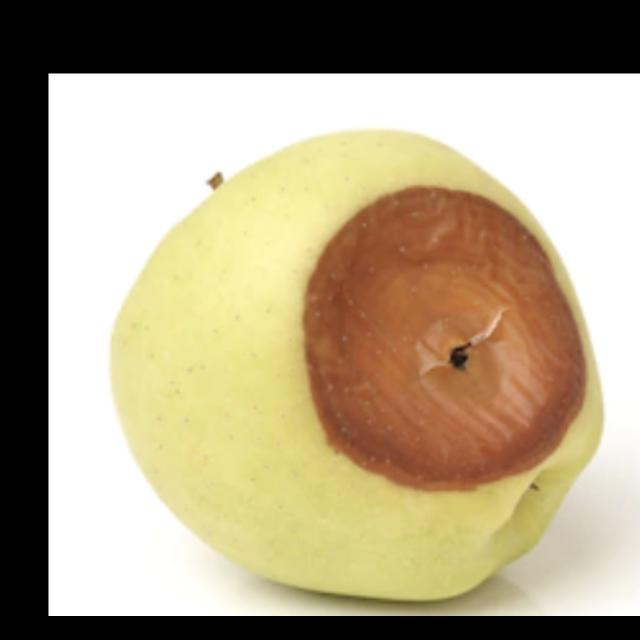Apel Tidak Segar: (68, 100, 610, 608)
